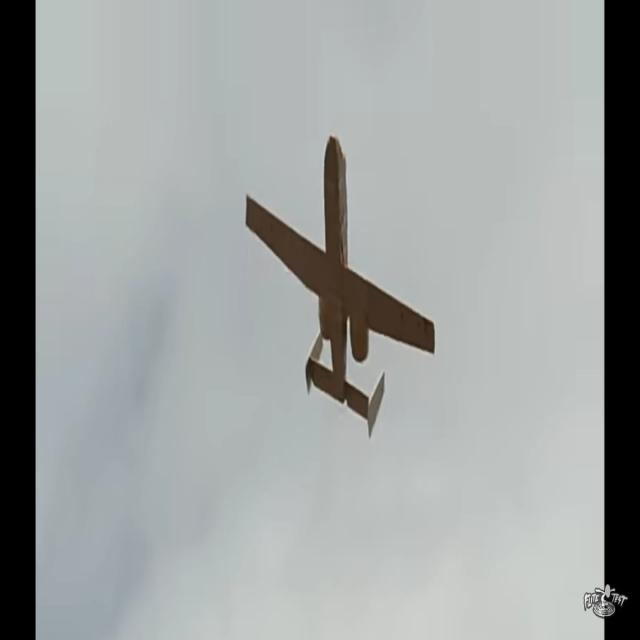iha: (244, 134, 435, 439)
